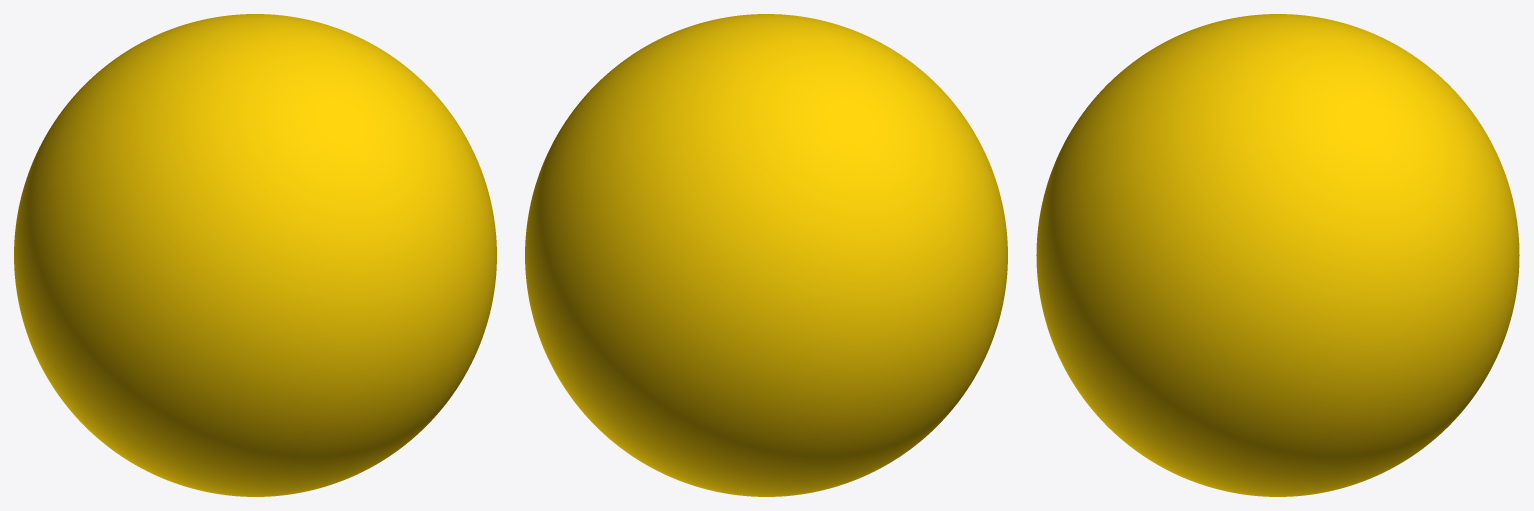
The model's file is sphere_gold_older.gltf.
3 views of the same model, side by side, from view 1: azimuth 30°, elevation 25°; view 2: azimuth 150°, elevation 25°; view 3: azimuth 270°, elevation 25° (orthographic).
Parts seen in each view (by area): view 1: sopimport1; view 2: sopimport1; view 3: sopimport1.
Part boxes in pixels (x1,y1,x2,y2): sopimport1: (14, 14, 496, 496); sopimport1: (525, 14, 1007, 496); sopimport1: (1036, 14, 1519, 496).
Bounding box in the file's own units: 1 × 1 × 1.
